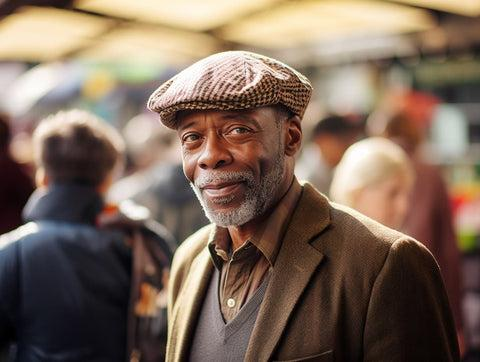cap: (148, 46, 319, 124)
